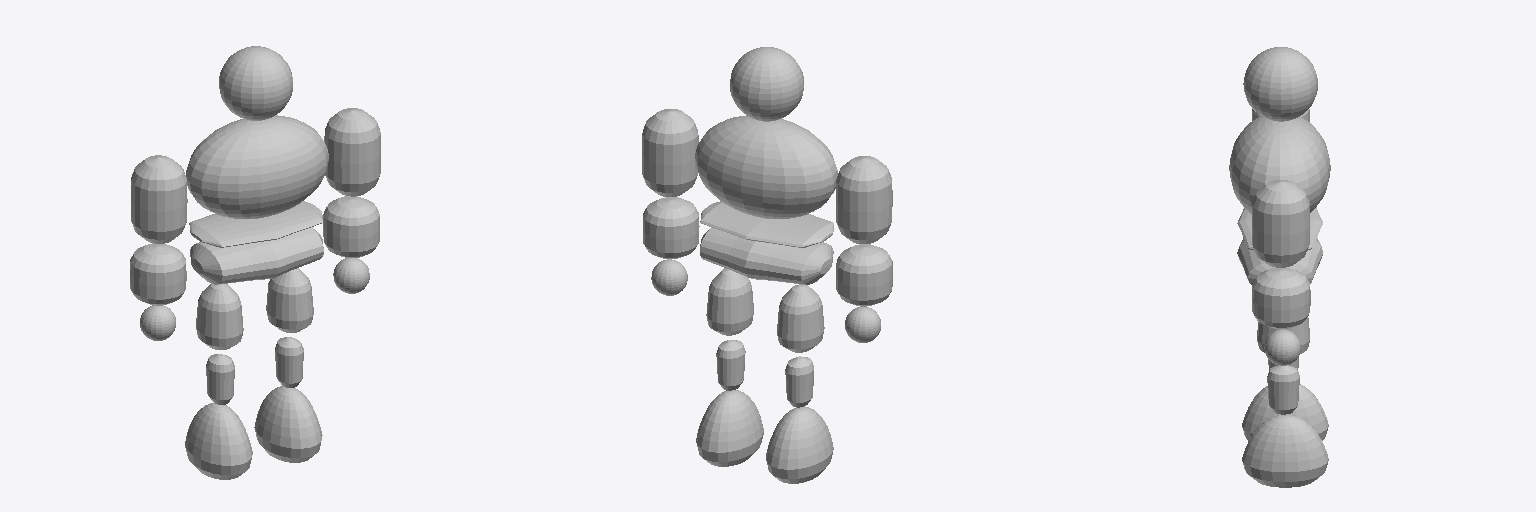
The model's file is PTwo0.obj.
The picture shows the model from 3 angles: view 1: azimuth 30°, elevation 25°; view 2: azimuth 150°, elevation 25°; view 3: azimuth 270°, elevation 25°; orthographic projection.
Size of the model in its own units: 4.01 by 6.49 by 1.45.